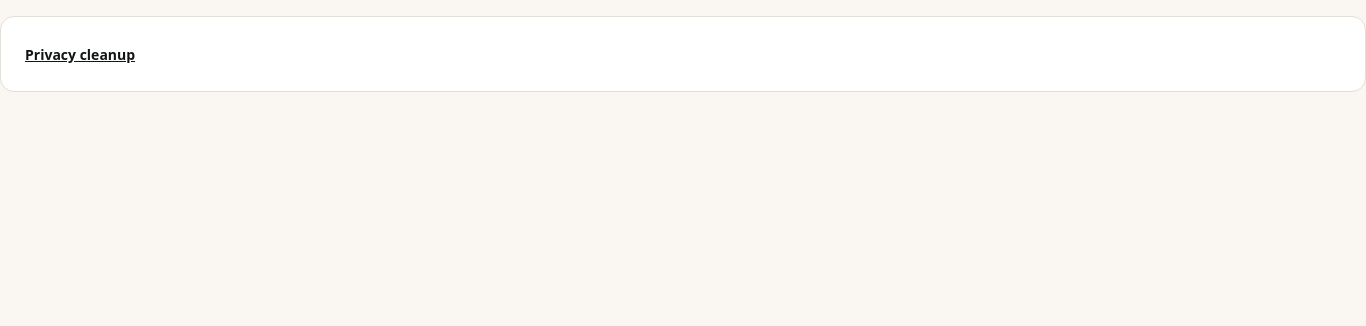
Test case: operator privacy cleanup › allows Super Admin, guards duplicate retries, and reports pending rather than completed
Later steps or results of the test are not shown.
Click the button "Privacy cleanup" at (80, 55), box [25,45,135,65]
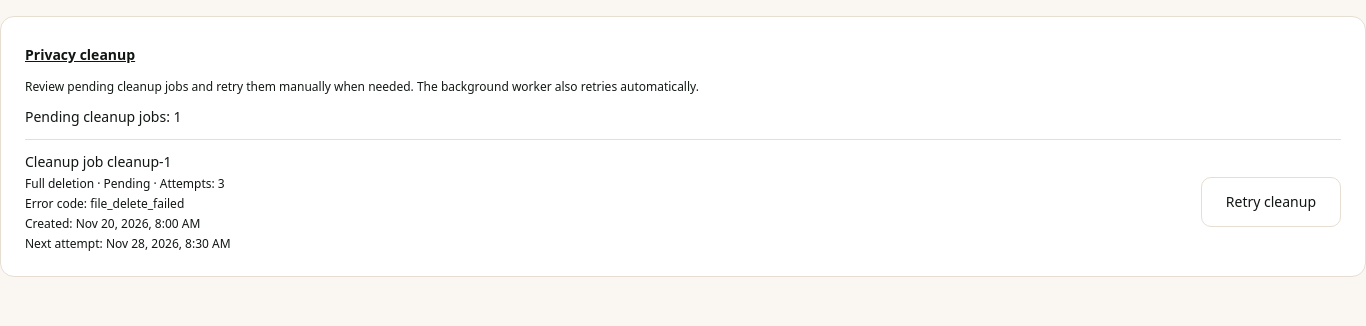
Click the button "Retry cleanup" at (1271, 202), box [1201,177,1341,227]
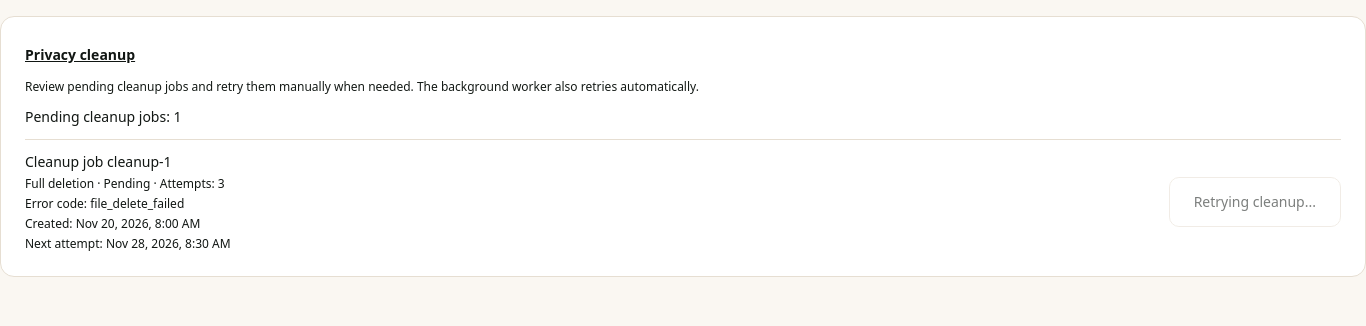
Click the button named "Retry cleanup" at (1255, 202), box [1169,177,1341,227]
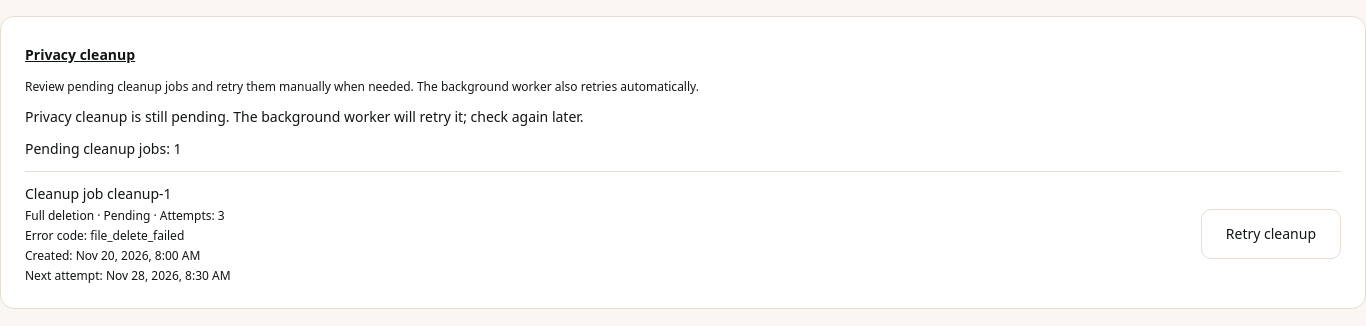
Check: the text "Privacy cleanup is still pending" is shown, box [25,107,584,126]
Check: the button "Retry cleanup" is enabled, box [1201,209,1341,259]
